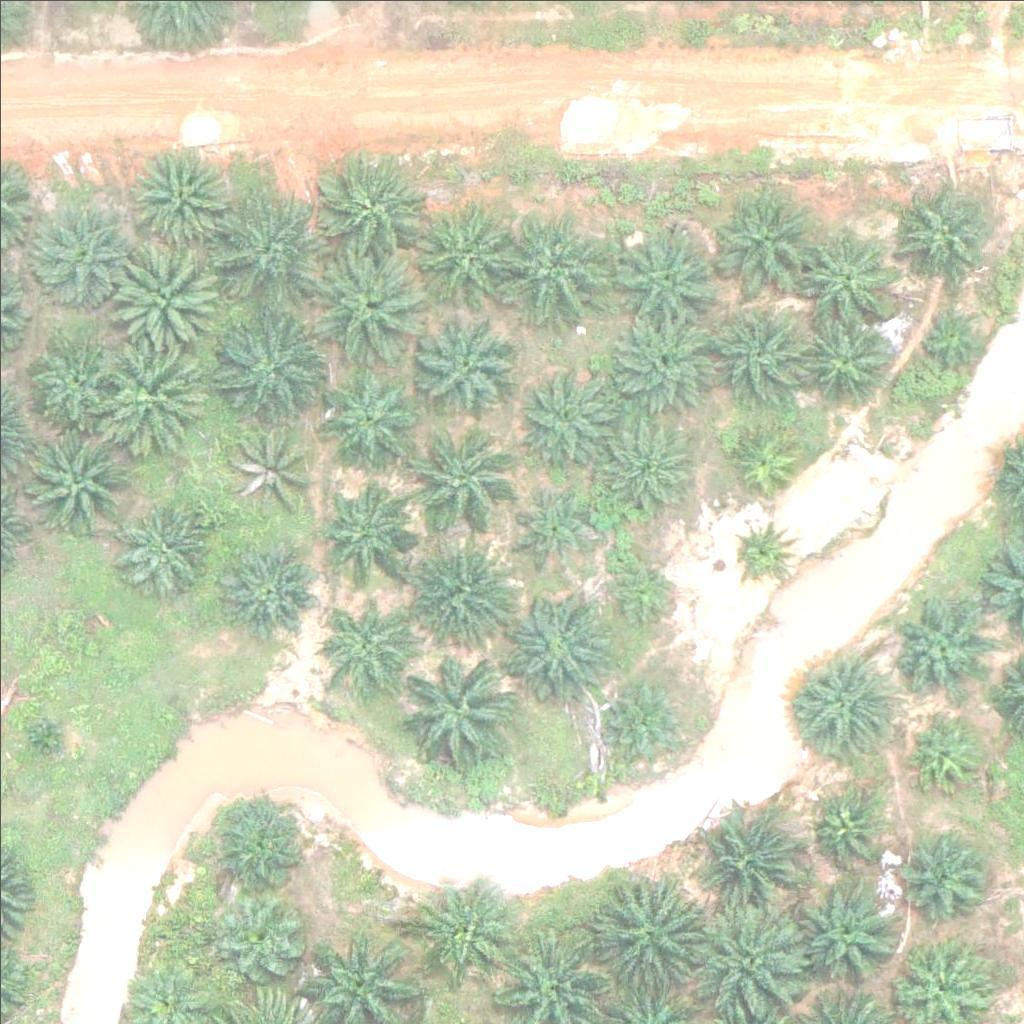Kelapa_Sawit: (596, 875, 709, 989), (312, 148, 425, 261), (399, 658, 512, 771), (505, 585, 618, 698), (607, 307, 720, 420), (610, 219, 723, 332), (708, 180, 821, 293), (401, 426, 513, 540), (503, 209, 615, 323), (20, 425, 132, 538), (97, 342, 209, 455), (110, 244, 222, 357), (208, 189, 320, 302), (212, 310, 324, 423), (314, 248, 426, 361), (413, 191, 525, 304), (410, 530, 522, 643), (689, 901, 801, 1014), (30, 207, 130, 308), (116, 496, 216, 597), (320, 476, 420, 577), (418, 314, 518, 415), (801, 883, 901, 984), (518, 363, 618, 464), (710, 297, 810, 398), (795, 306, 895, 407), (893, 180, 993, 281), (131, 145, 231, 245), (210, 795, 310, 895), (219, 542, 319, 642), (320, 373, 420, 473), (413, 874, 513, 974), (703, 809, 803, 909), (793, 649, 893, 749), (595, 416, 695, 516), (800, 227, 900, 327), (887, 596, 987, 696), (32, 336, 120, 424), (218, 900, 306, 988), (507, 482, 595, 570), (602, 674, 690, 762), (905, 836, 993, 924), (223, 423, 310, 511), (321, 593, 408, 681), (906, 717, 981, 793), (811, 792, 886, 867), (603, 556, 678, 631), (727, 418, 802, 493), (912, 294, 987, 369), (730, 517, 793, 580), (23, 714, 73, 765)
